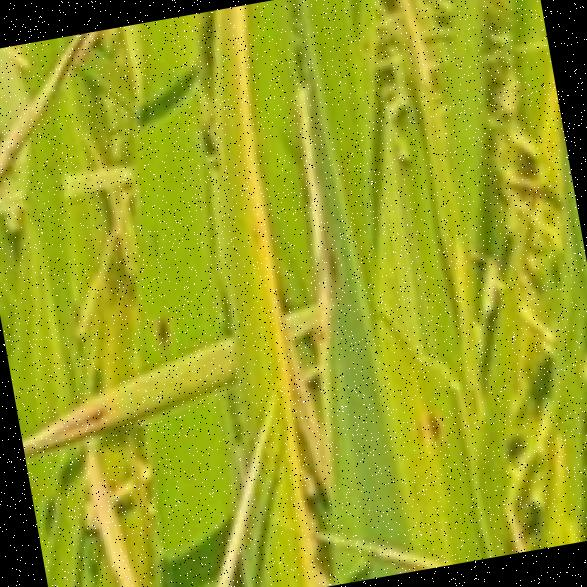Bacteria_Leaf_Blight: (194, 10, 318, 529)
